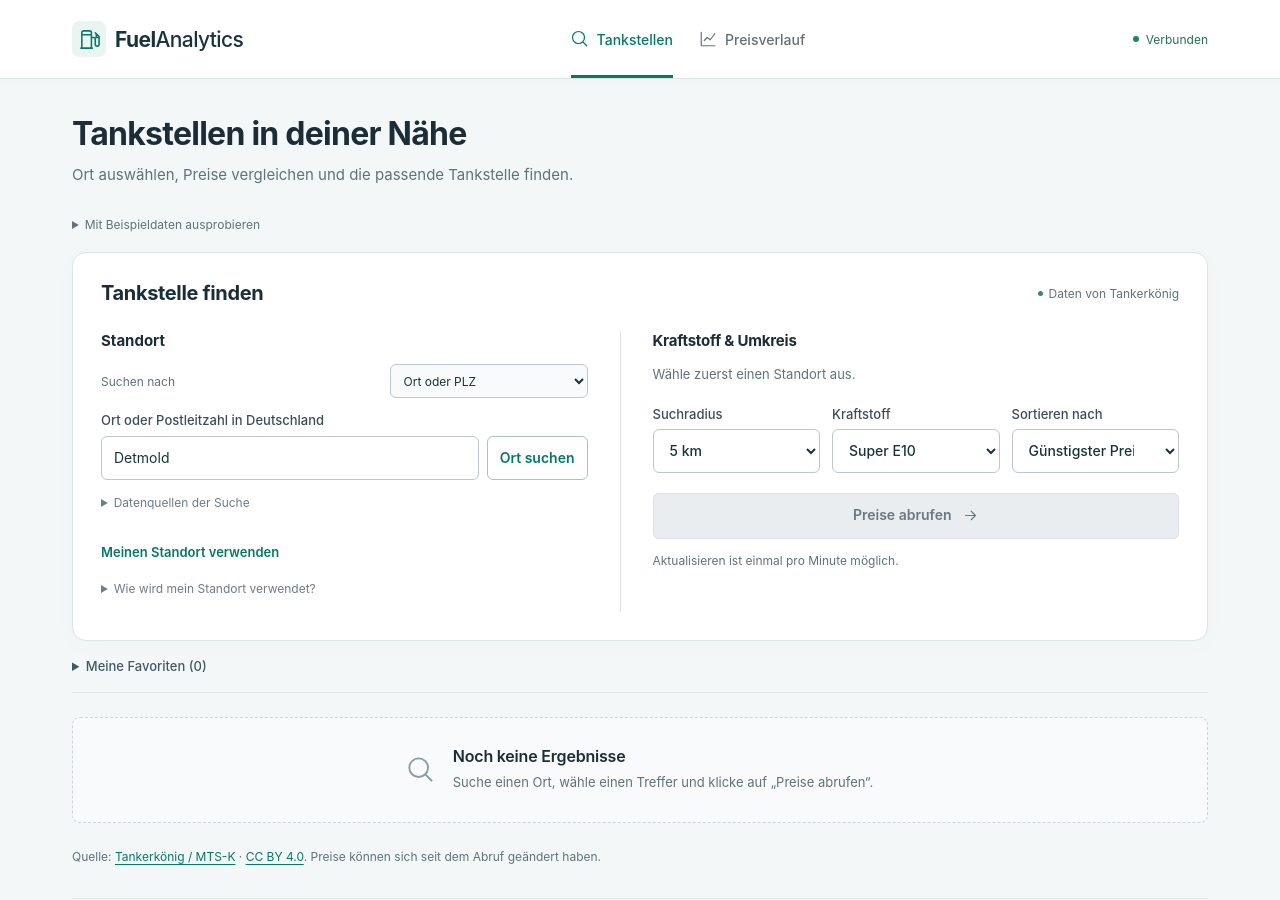
Test: navigation shows one workspace at a time and preserves the search input
Later steps or results of the test are not shown.
Expected: the link "Verbunden" is shown, x1=1133 y1=32 x2=1208 y2=46
Replace the text in the field labelled "Ort oder Postleitzahl in Deutschland" with "Lippstadt": point(290, 458) x1=101 y1=436 x2=479 y2=480
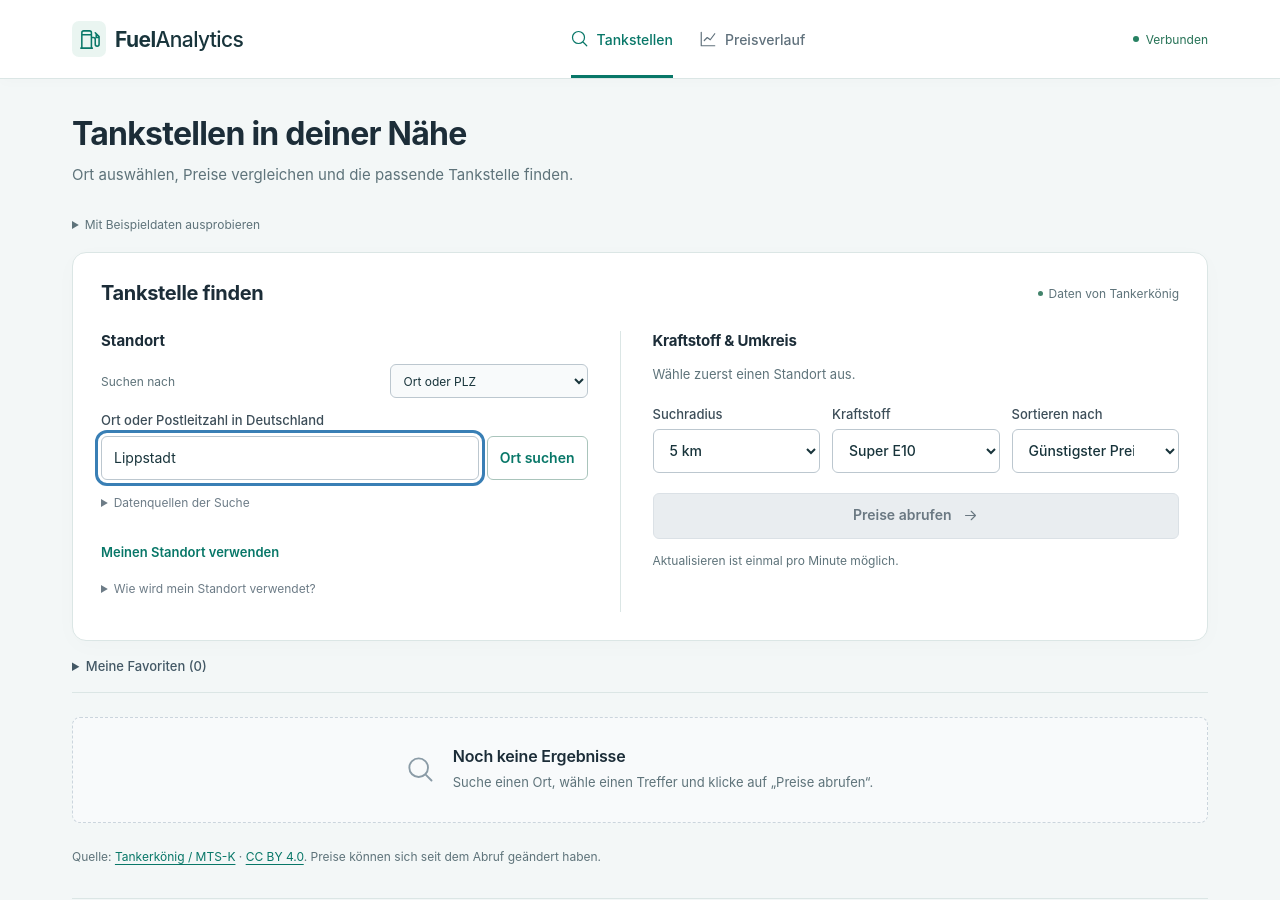
Click the link "Preisverlauf": point(752, 39) x1=699 y1=30 x2=805 y2=48
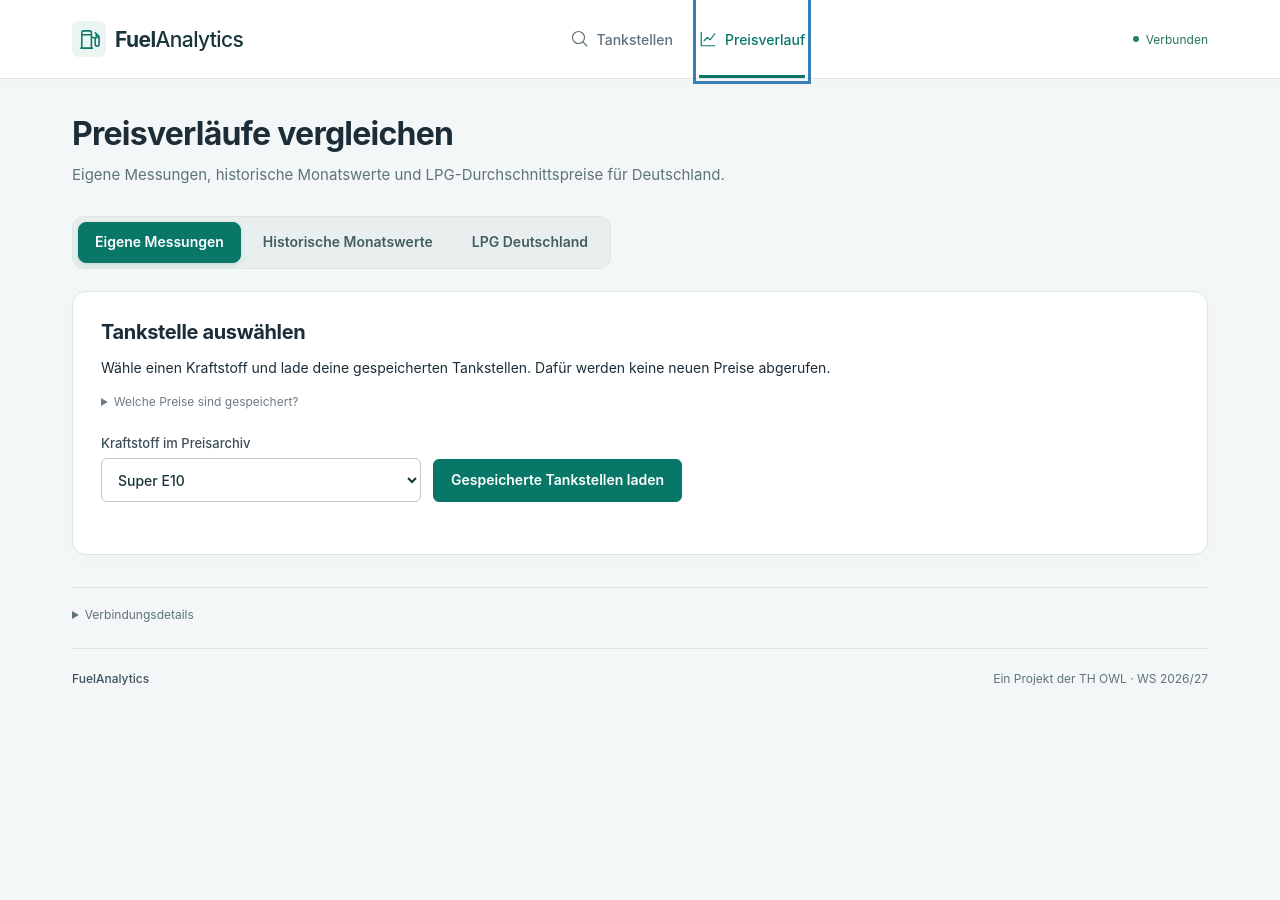
Expected: the button "LPG-Statistik laden" is not shown
Expected: the heading "Preisverläufe vergleichen" is shown, x1=72 y1=114 x2=453 y2=153
Expected: the button "Preise abrufen" is gone
Click the button "LPG Deutschland": point(530, 243) x1=455 y1=222 x2=605 y2=263
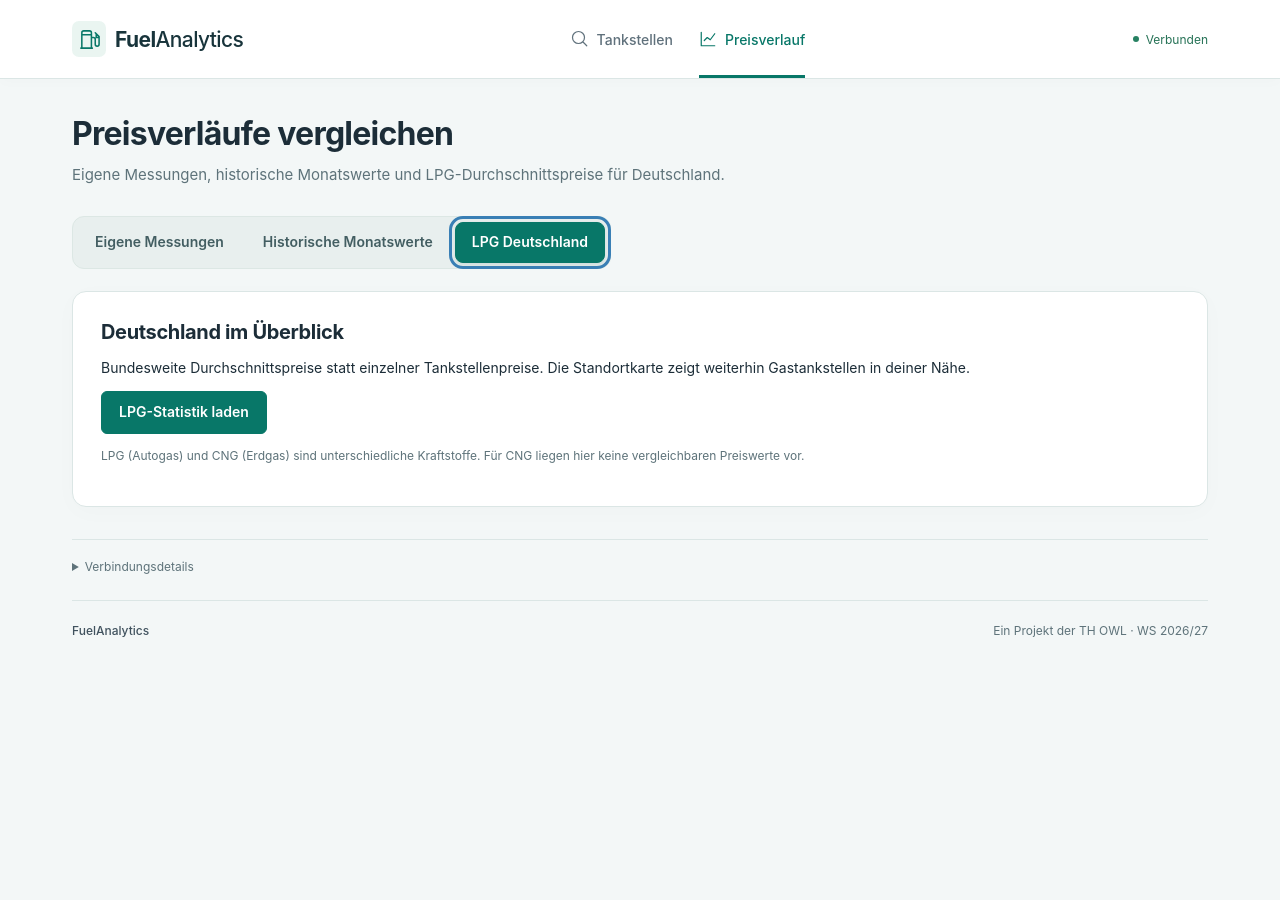
Expected: the button "LPG-Statistik laden" is shown, x1=101 y1=391 x2=267 y2=434
Expected: the button "Gespeicherte Tankstellen laden" is gone
